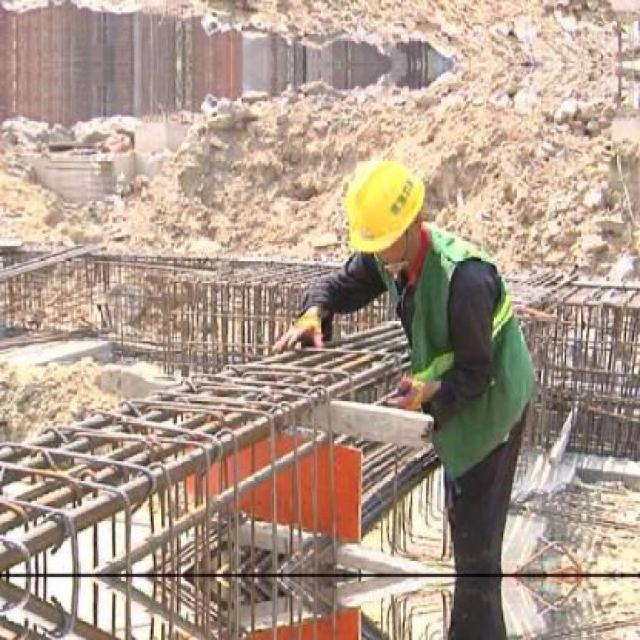Reflective-Jacket: (380, 229, 537, 462)
Safety-Helmet: (323, 149, 435, 260)
